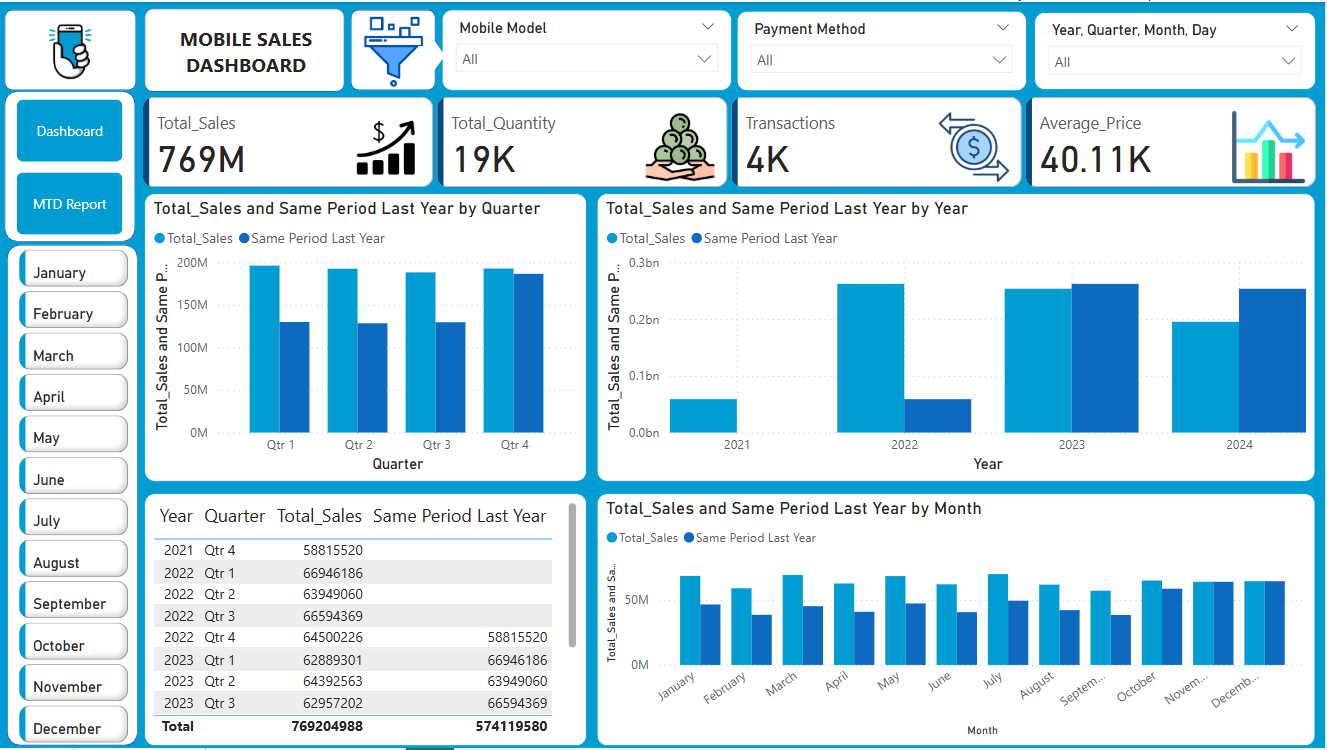

Layout of this report page (visuals, bound fields, positions):
{"tool":"powerbi","page":{"name":"Same Period Last Year","canvas":[1280,720],"ordinal":2},"visuals":[{"type":"shape","box":[5.5,6.9,127.6,78.2],"z":0},{"type":"image","box":[9.6,8.2,119.4,78.2],"z":1000},{"type":"shape","box":[6,85.7,126.7,146],"z":2000},{"type":"cardVisual","fields":{"Data":["Mobile_Sales_Data.Total_Sales","Mobile_Sales_Data.Total_Quantity","Mobile_Sales_Data.Transactions","Mobile_Sales_Data.Average_Price"]},"box":[135.1,86.9,1144.9,97.7],"z":3000},{"type":"slicer","fields":{"Values":["Mobile_Sales_Data.Payment Method"]},"box":[713,8.4,279.9,77.2],"z":4000},{"type":"slicer","fields":{"Values":["Mobile_Sales_Data.Mobile Model"]},"box":[428.3,7.2,279.9,78.4],"z":5000},{"type":"slicer","fields":{"Values":["Custom_Calendar.Date.Variation.Date Hierarchy.Year","Custom_Calendar.Date.Variation.Date Hierarchy.Quarter","Custom_Calendar.Date.Variation.Date Hierarchy.Month","Custom_Calendar.Date.Variation.Date Hierarchy.Day"]},"box":[1000.3,9.6,271.7,75.5],"z":6000},{"type":"shape","box":[340.3,6.9,82.3,78.2],"z":7000},{"type":"image","box":[341.7,8.2,81,79.6],"z":8000},{"type":"shape","box":[404.8,34.3,26.1,35.7],"z":9000},{"type":"shape","box":[141.3,5.5,193.5,81],"z":10000},{"type":"textbox","box":[150.8,18.1,177.3,67.6],"z":11000},{"type":"shape","box":[8.4,234,126.7,483.8],"z":12000},{"type":"advancedSlicerVisual","fields":{"Values":["Custom_Calendar.Date.Variation.Date Hierarchy.Month"]},"box":[15.7,233.8,115.8,486.2],"z":13000},{"type":"tableEx","fields":{"Values":["Custom_Calendar.Date.Variation.Date Hierarchy.Year","Custom_Calendar.Date.Variation.Date Hierarchy.Quarter","Mobile_Sales_Data.Total_Sales","Mobile_Sales_Data.Same Period Last Year"]},"box":[141.2,474.1,427.1,243.7],"z":14000},{"type":"clusteredColumnChart","fields":{"Category":["Custom_Calendar.Date.Variation.Date Hierarchy.Year","Custom_Calendar.Date.Variation.Date Hierarchy.Quarter"],"Y":["Mobile_Sales_Data.Total_Sales","Mobile_Sales_Data.Same Period Last Year"]},"box":[577.9,184.6,693.7,278.7],"z":15000},{"type":"clusteredColumnChart","fields":{"Y":["Mobile_Sales_Data.Total_Sales","Mobile_Sales_Data.Same Period Last Year"],"Category":["Custom_Calendar.Date.Variation.Date Hierarchy.Year","Custom_Calendar.Date.Variation.Date Hierarchy.Quarter","Custom_Calendar.Date.Variation.Date Hierarchy.Month","Custom_Calendar.Date.Variation.Date Hierarchy.Day"]},"box":[577.9,474.1,693.7,243.7],"z":16000},{"type":"clusteredColumnChart","fields":{"Category":["Custom_Calendar.Date.Variation.Date Hierarchy.Year","Custom_Calendar.Date.Variation.Date Hierarchy.Quarter"],"Y":["Mobile_Sales_Data.Total_Sales","Mobile_Sales_Data.Same Period Last Year"]},"box":[141.2,184.6,427.1,278.7],"z":17000},{"type":"pageNavigator","box":[18.1,94.1,102.5,130.3],"z":18000}]}

Visuals, with their boxes in screenshot pixels (x1, y1, x2, y2), scaled from the page's 1280x720 canvas onto the 1327x750 screenshot:
shape: box=[6, 7, 138, 89]
image: box=[10, 9, 134, 90]
shape: box=[6, 89, 138, 241]
cardVisual - Mobile_Sales_Data.Total_Sales x Mobile_Sales_Data.Total_Quantity: box=[140, 91, 1326, 192]
slicer - Mobile_Sales_Data.Payment Method: box=[739, 9, 1029, 89]
slicer - Mobile_Sales_Data.Mobile Model: box=[444, 8, 734, 89]
slicer - Custom_Calendar.Date.Variation.Date Hierarchy.Year x Custom_Calendar.Date.Variation.Date Hierarchy.Quarter: box=[1037, 10, 1319, 89]
shape: box=[353, 7, 438, 89]
image: box=[354, 9, 438, 91]
shape: box=[420, 36, 447, 73]
shape: box=[146, 6, 347, 90]
textbox: box=[156, 19, 340, 89]
shape: box=[9, 244, 140, 748]
advancedSlicerVisual - Custom_Calendar.Date.Variation.Date Hierarchy.Month: box=[16, 244, 136, 749]
tableEx - Custom_Calendar.Date.Variation.Date Hierarchy.Year x Custom_Calendar.Date.Variation.Date Hierarchy.Quarter: box=[146, 494, 589, 748]
clusteredColumnChart - Custom_Calendar.Date.Variation.Date Hierarchy.Year x Custom_Calendar.Date.Variation.Date Hierarchy.Quarter: box=[599, 192, 1318, 483]
clusteredColumnChart - Mobile_Sales_Data.Total_Sales x Mobile_Sales_Data.Same Period Last Year: box=[599, 494, 1318, 748]
clusteredColumnChart - Custom_Calendar.Date.Variation.Date Hierarchy.Year x Custom_Calendar.Date.Variation.Date Hierarchy.Quarter: box=[146, 192, 589, 483]
pageNavigator: box=[19, 98, 125, 234]
